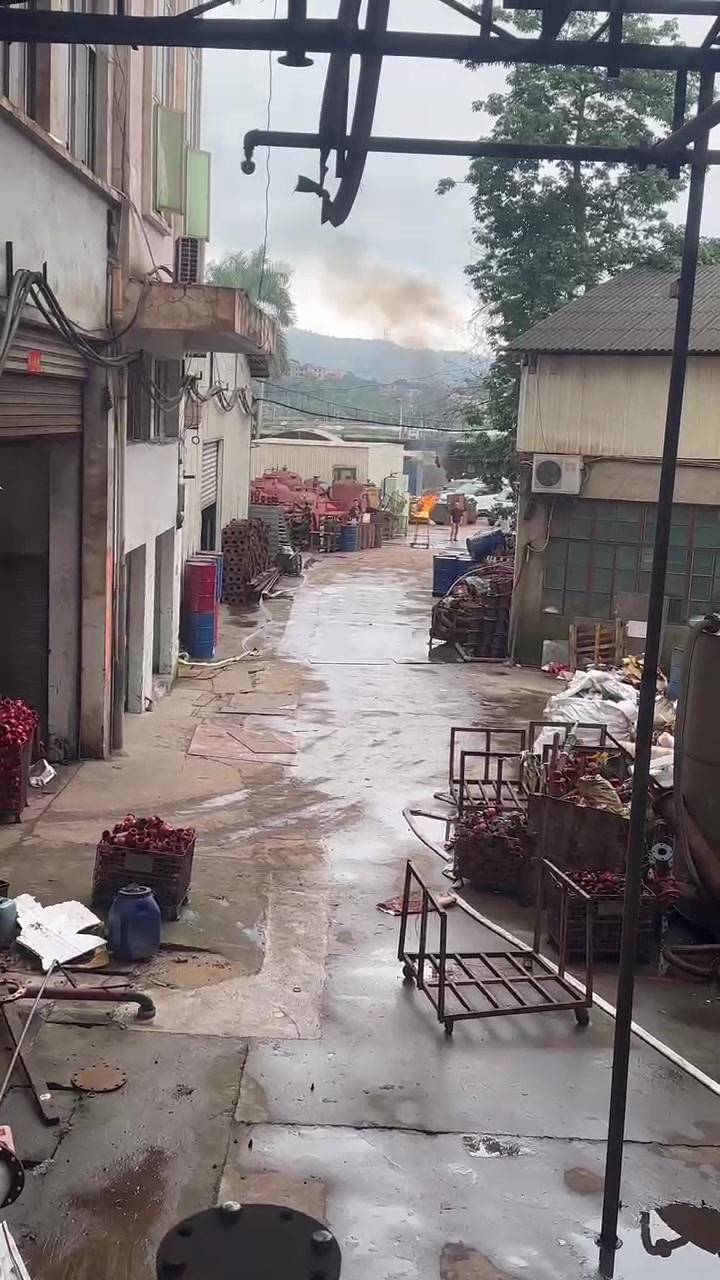fire: (413, 494, 436, 517)
